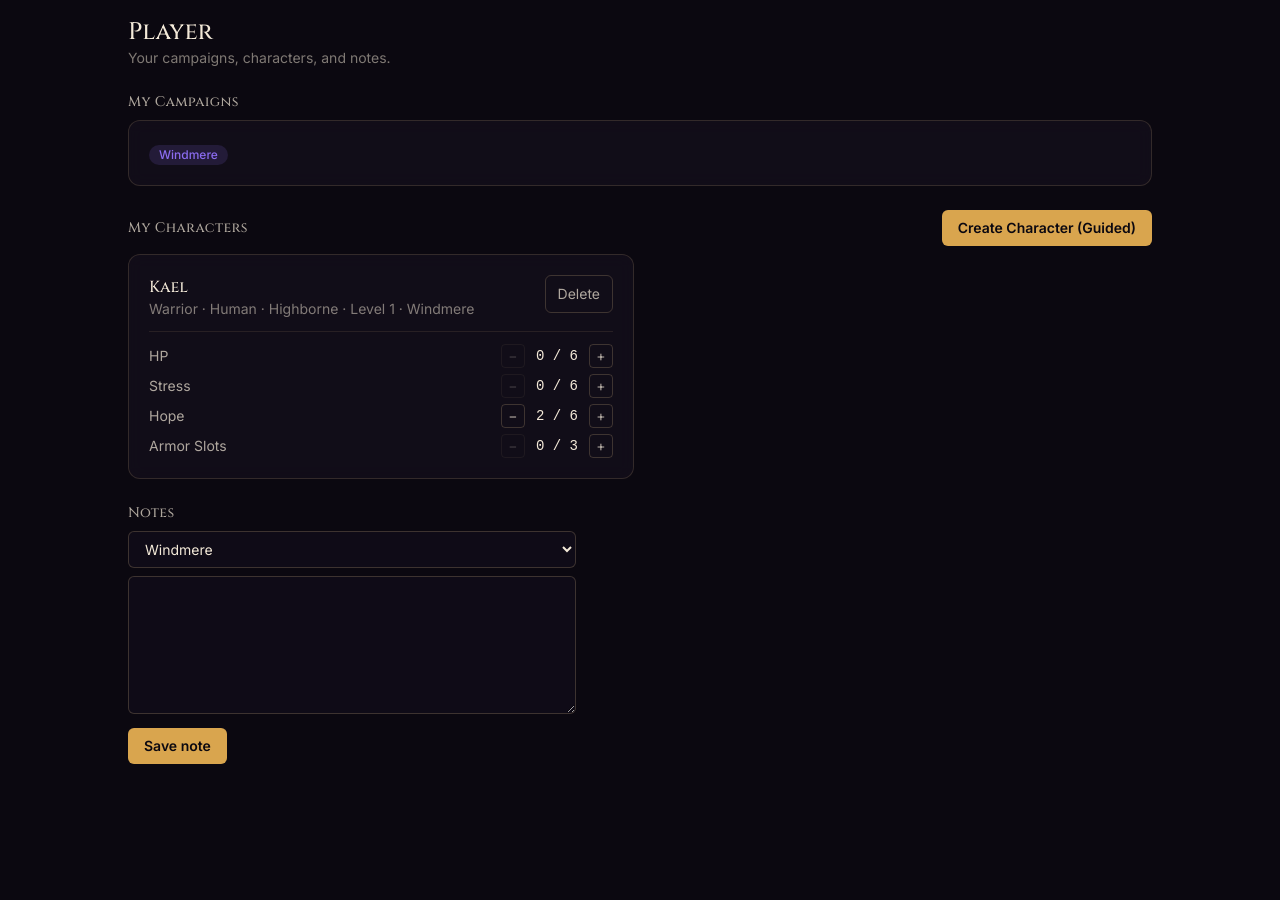
PlayerPage › marks HP on a sheeted character when character sheet tracking is enabled
Check: the text "Kael" is shown, box x1=149 y1=276 x2=188 y2=298
The probe call (empty body) resolving is what reveals the tracker UI.
Click the button named "Mark a HP" at (601, 356), box x1=589 y1=344 x2=613 y2=368
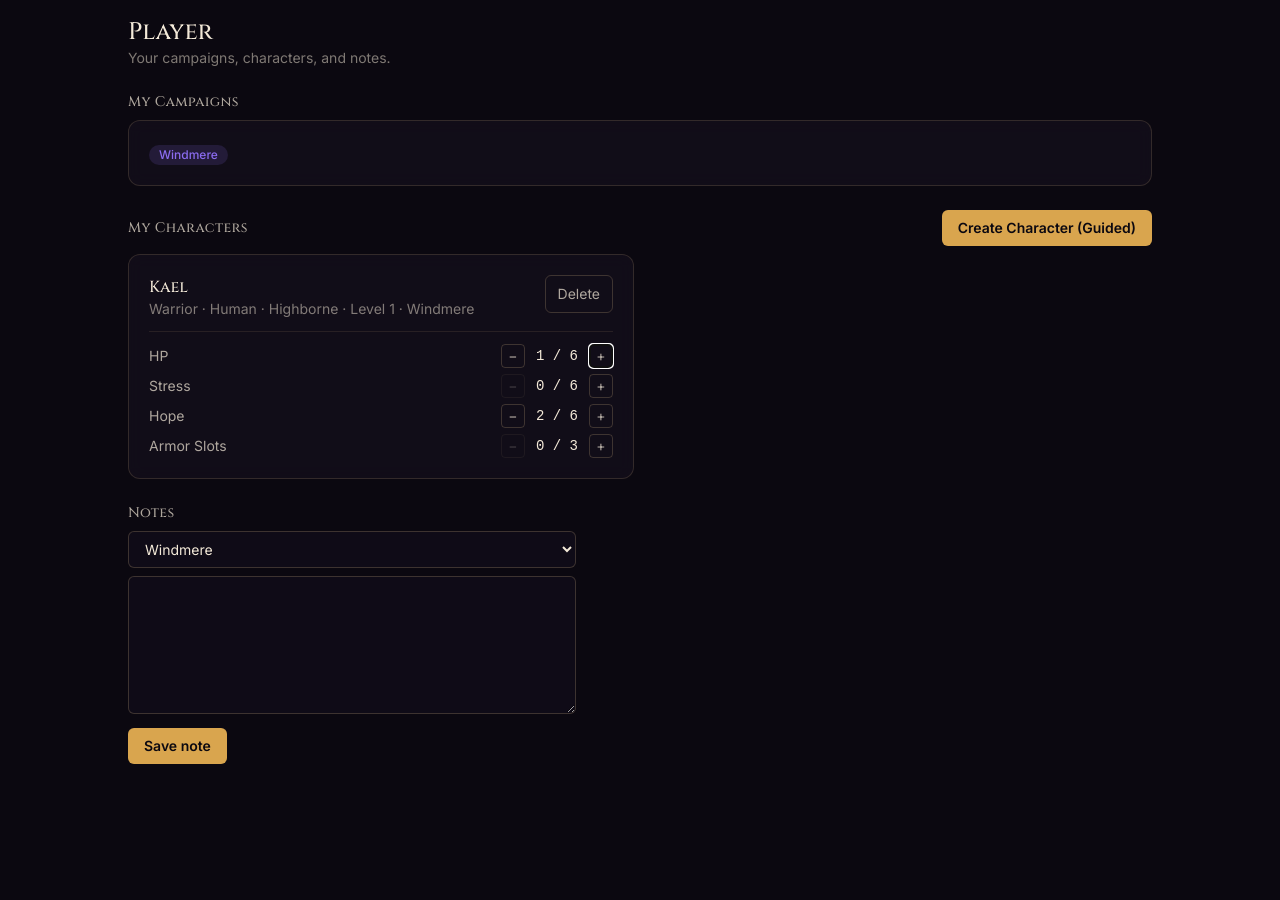
Check: the text "1 / 6" is shown, box x1=533 y1=346 x2=581 y2=366
